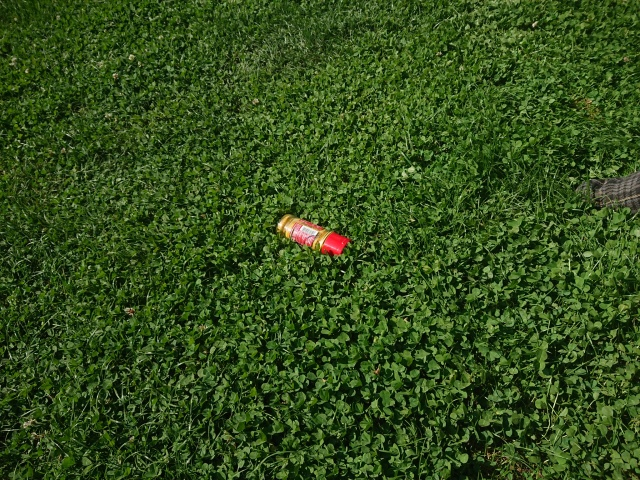Kotanyi Curry Spices Mix 70g: (272, 211, 354, 264)
